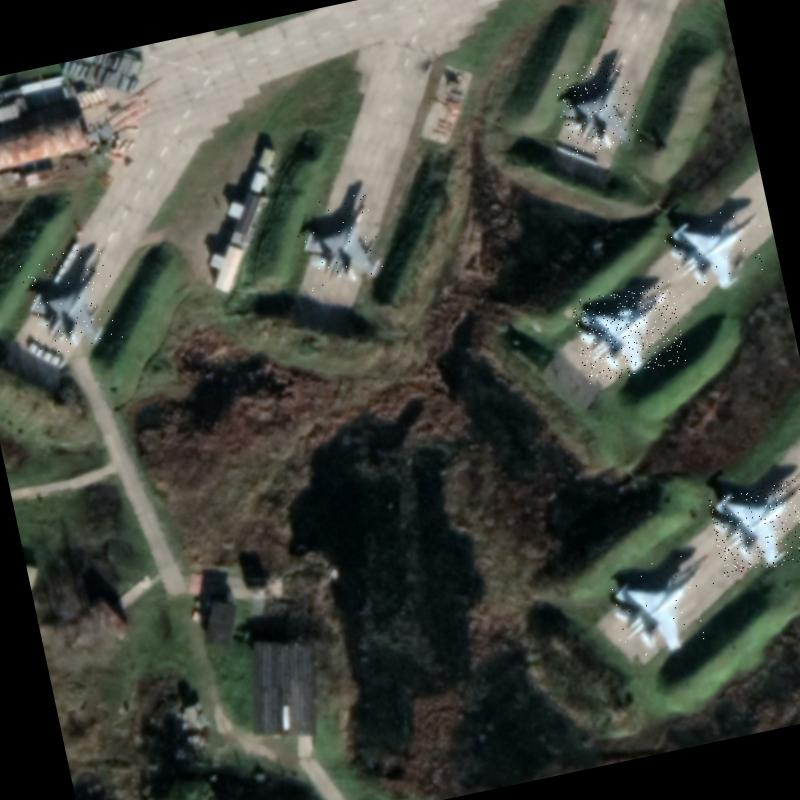A1: (602, 550, 729, 663), (17, 242, 127, 358), (662, 204, 776, 301), (706, 474, 800, 577), (292, 191, 386, 293), (551, 56, 643, 158)
A19: (570, 280, 688, 385)
